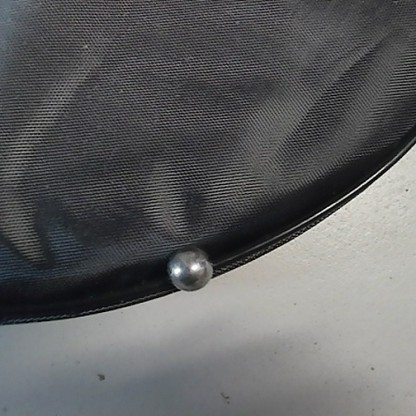ironball: (168, 250, 212, 289)
